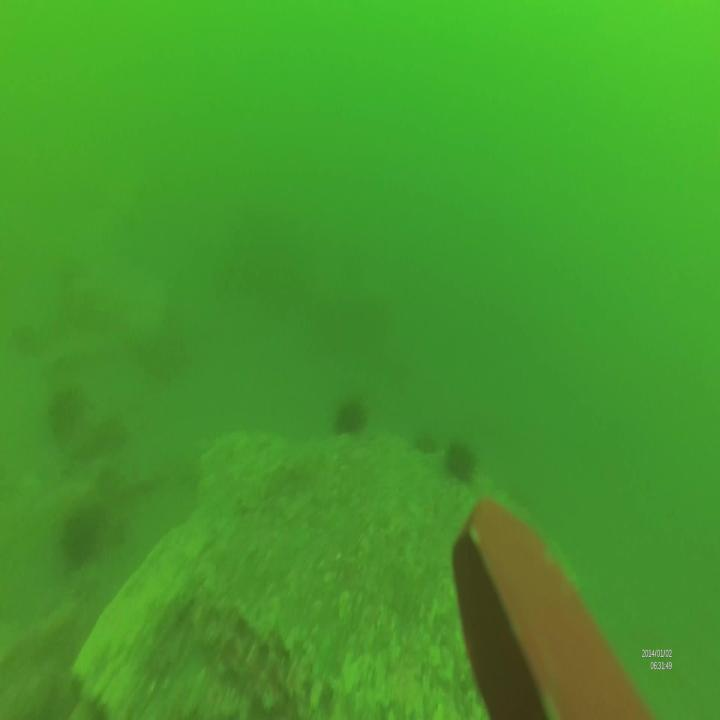echinus: (334, 395, 367, 448), (444, 438, 478, 485)
